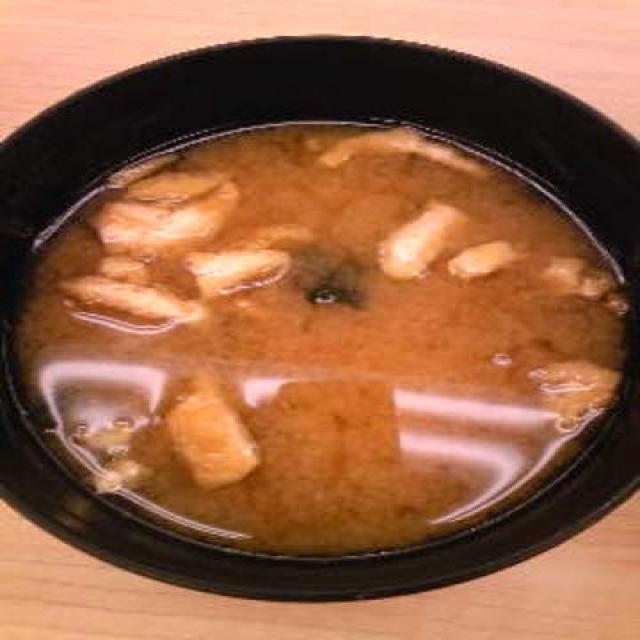汤锅炖物: (12, 76, 624, 617)
